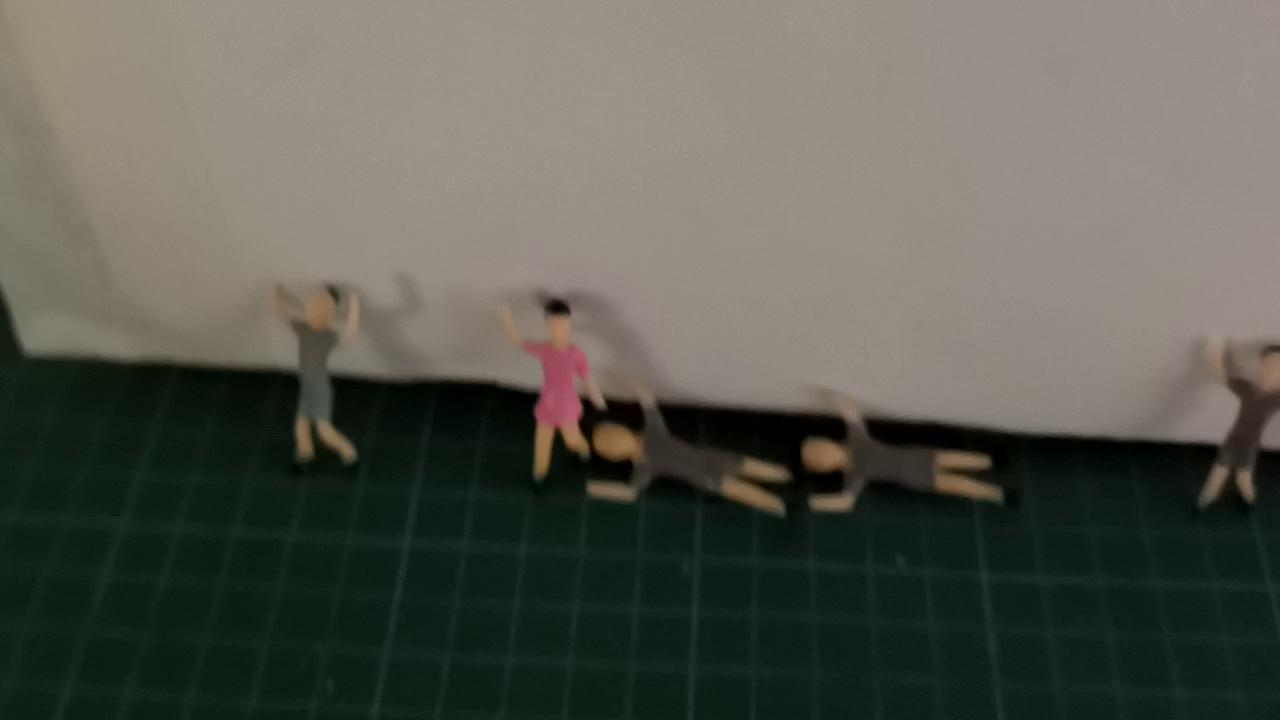human: (577, 367, 799, 533), (265, 271, 378, 485), (495, 286, 600, 494), (1013, 524, 1014, 525)
